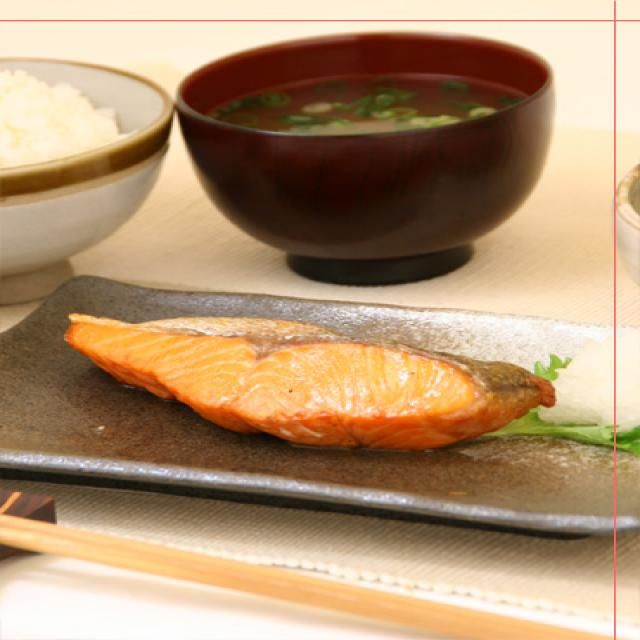熟制海鲜: (40, 282, 581, 466)
